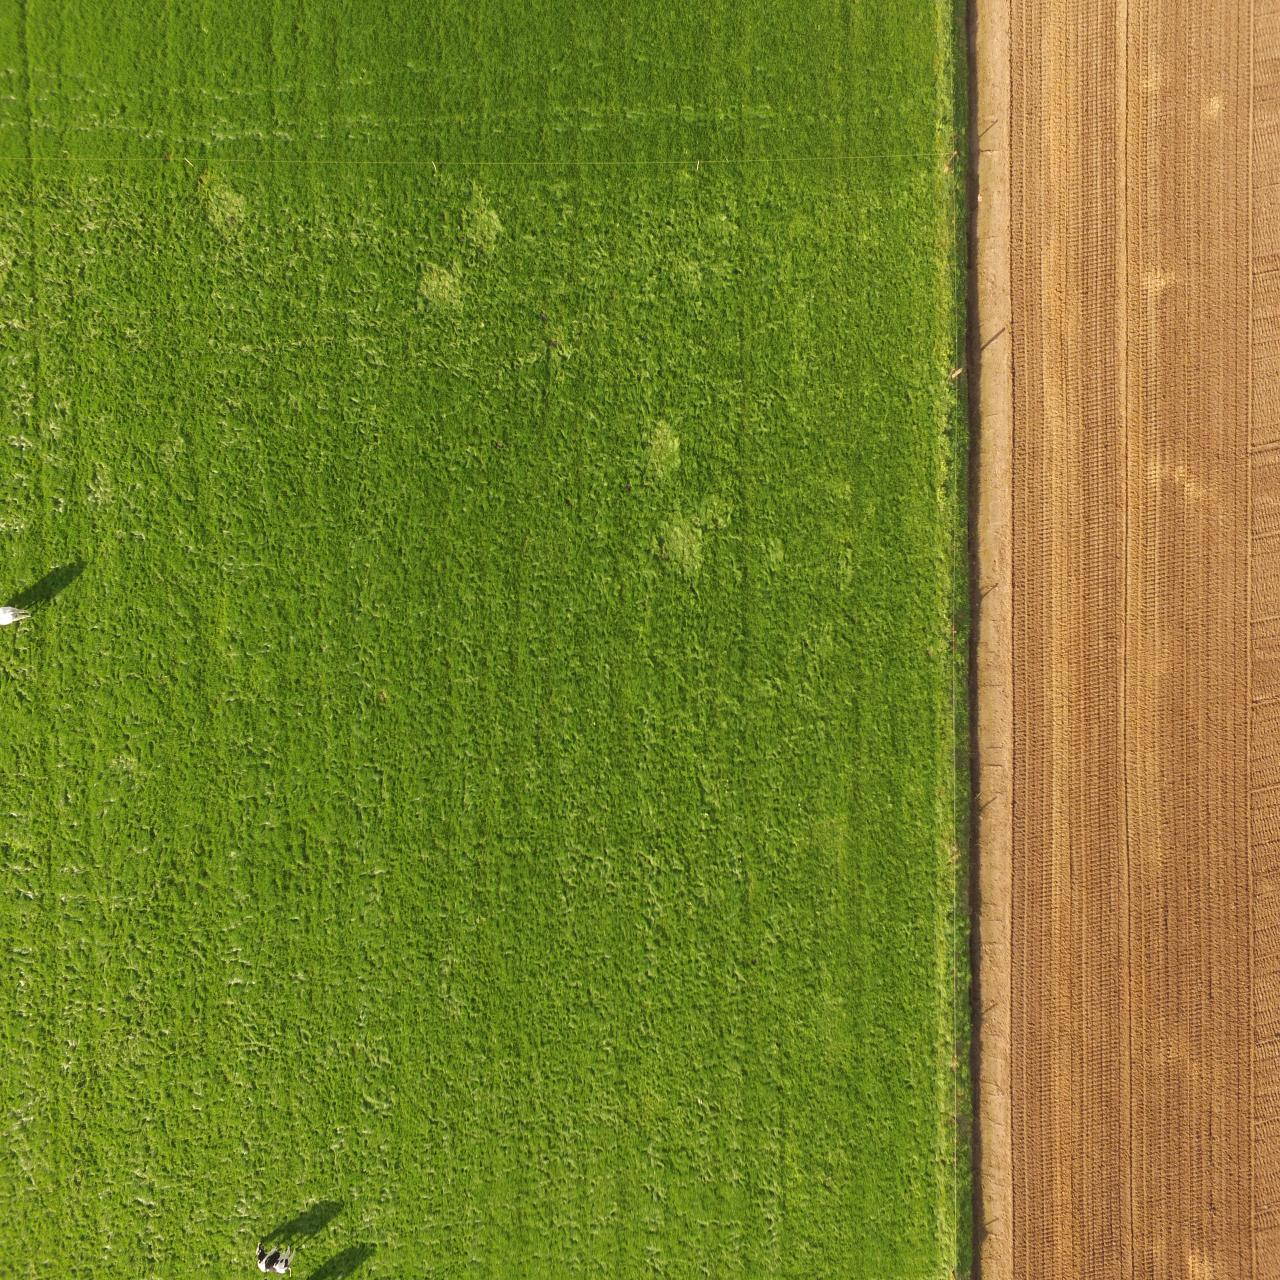cow: (254, 1241, 296, 1278)
